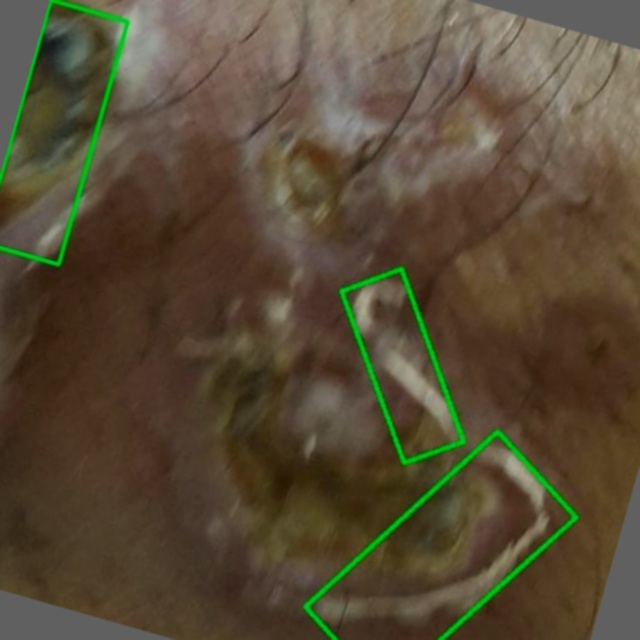Contact Dermatitis: (305, 432, 576, 639), (0, 0, 127, 264), (341, 269, 464, 464)
